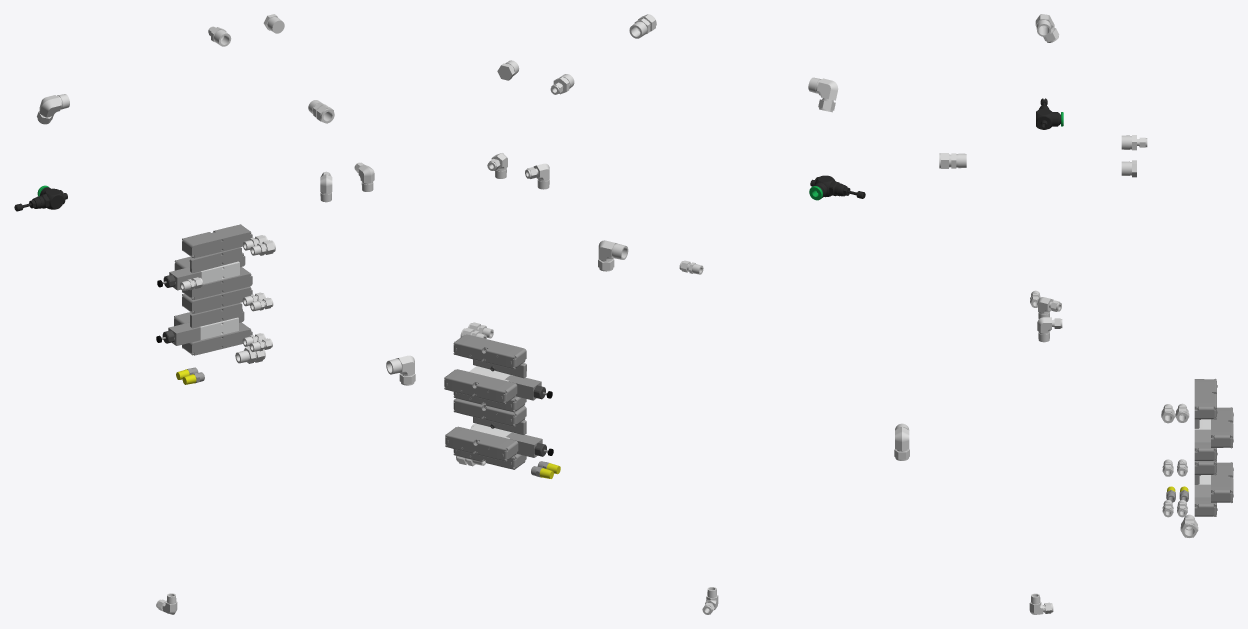
Rendered from Machine.FBX.
3 views of the same model, side by side, from view 1: azimuth 30°, elevation 25°; view 2: azimuth 150°, elevation 25°; view 3: azimuth 270°, elevation 25° (orthographic). The views are drawn at different scales.
Parts seen in each view (by area): view 1: Valve_Body_A[1]:022, Parker A-Lok Male Taper Thread - 90° Elbow - Fractional Tube (×2), Regulator_A_Single[1]:009, Regulator_A_Single[1]:010, Valve_Body_A_Single:005, Valve_Body_A[1]:026, Valve_Body_A[1]:024, BlankPlate_A:010, BlankPlate_A:011, Parker FC series Flow Control half inch-2 1/2:005; view 2: Valve_Body_A[1]:023, Valve_Body_A[1]:025, Valve_Body_A[1]:022, Parker A-Lok Male Taper Thread - 90° Elbow - Fractional Tube (×2), Valve_Body_A_Single:005, Regulator_A_Single[1]:010, Regulator_A_Single[1]:009, Parker FC series Flow Control half inch-2 1/2:005, Valve_Body_A[1]:026, Valve_Body_A[1]:024; view 3: Parker A-Lok Male Taper Thread - 90° Elbow - Fractional Tube (×2), Valve_Body_A[1]:022, Valve_Body_A[1]:025, Valve_Body_A[1]:023, Parker FC series Flow Control half inch-2 1/2:005.
Boxes of the visible parts, box(x1,y1,x2,y2) form: Valve_Body_A[1]:022: box(182, 224, 252, 258); Parker A-Lok Male Taper Thread - 90° Elbow - Fractional Tube (×2): box(37, 94, 415, 385); Regulator_A_Single[1]:009: box(156, 317, 238, 345); Regulator_A_Single[1]:010: box(157, 261, 239, 290); Valve_Body_A_Single:005: box(182, 286, 252, 313); Valve_Body_A[1]:026: box(182, 322, 252, 355); Valve_Body_A[1]:024: box(182, 267, 252, 299); BlankPlate_A:010: box(190, 303, 242, 328); BlankPlate_A:011: box(189, 247, 242, 273); Parker FC series Flow Control half inch-2 1/2:005: box(14, 185, 67, 211); Valve_Body_A[1]:023: box(445, 426, 518, 461); Valve_Body_A[1]:025: box(444, 369, 517, 404); Valve_Body_A[1]:022: box(453, 334, 526, 369); Parker A-Lok Male Taper Thread - 90° Elbow - Fractional Tube (×2): box(598, 77, 838, 271); Valve_Body_A_Single:005: box(453, 398, 526, 426); Regulator_A_Single[1]:010: box(469, 366, 552, 400); Regulator_A_Single[1]:009: box(470, 424, 553, 457); Parker FC series Flow Control half inch-2 1/2:005: box(809, 175, 865, 200); Valve_Body_A[1]:026: box(453, 449, 526, 469); Valve_Body_A[1]:024: box(453, 392, 526, 412); Parker A-Lok Male Taper Thread - 90° Elbow - Fractional Tube (×2): box(894, 14, 1059, 460); Valve_Body_A[1]:022: box(1194, 378, 1217, 419); Valve_Body_A[1]:025: box(1211, 407, 1233, 448); Valve_Body_A[1]:023: box(1211, 462, 1233, 502); Parker FC series Flow Control half inch-2 1/2:005: box(1036, 98, 1063, 129).
Size of what is drawn, in the model's own units: 30.04 by 24.75 by 43.61.
